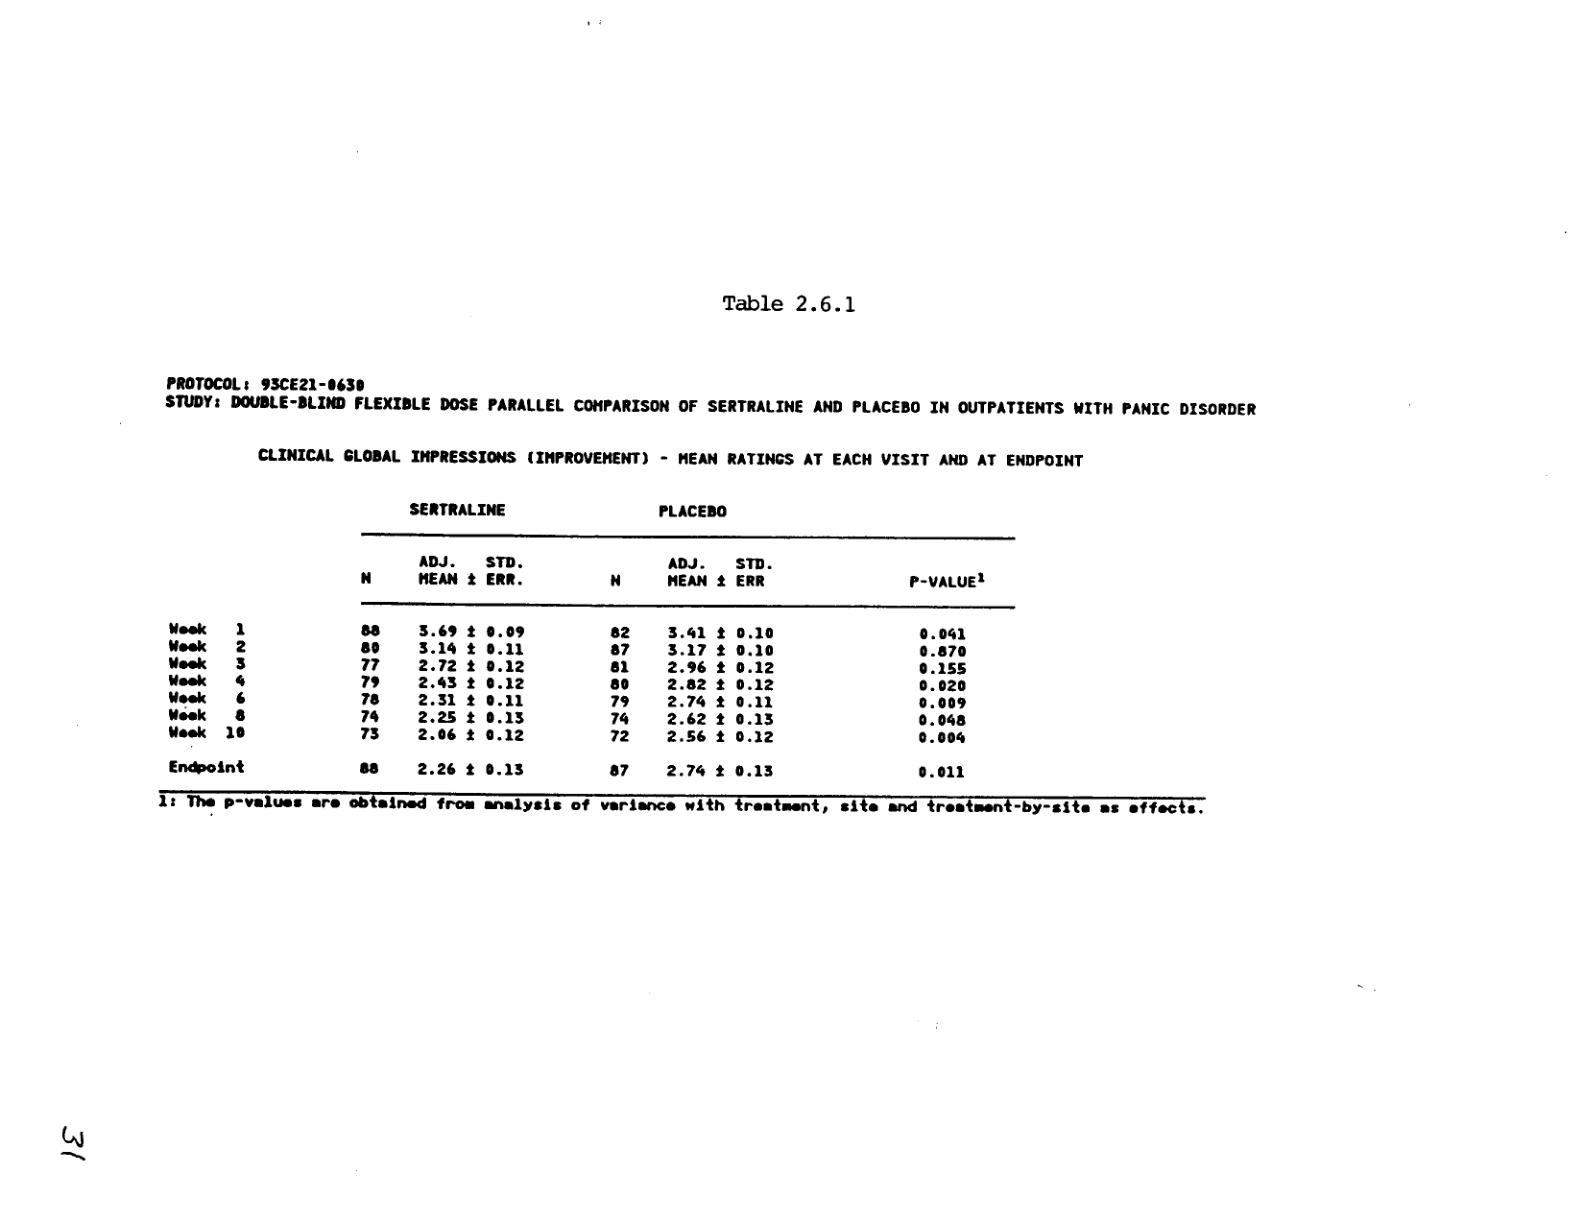partial_lined_merged_cells: (158, 497, 1211, 798)
